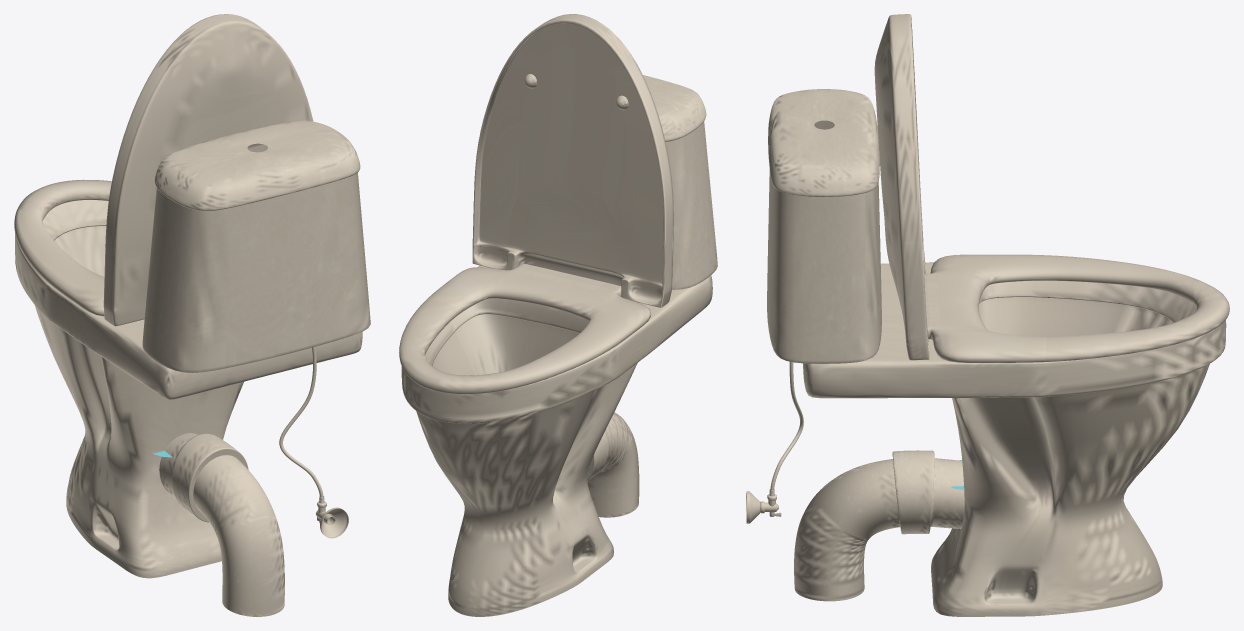
The picture shows the model from 3 angles, left to right: view 1: azimuth 30°, elevation 25°; view 2: azimuth 150°, elevation 25°; view 3: azimuth 270°, elevation 25°; orthographic projection. The views are drawn at different scales.
Visible parts, largest first — view 1: Water; view 2: Water; view 3: Water.
Boxes of the visible parts, x1,y1,x2,y2 form: Water: (14, 14, 370, 616); Water: (399, 14, 717, 616); Water: (746, 14, 1229, 616).
Bounding box in the file's own units: 43.01 × 110 × 84.46.
2 materials, 1 textured.
